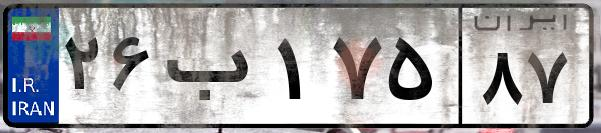1: (270, 28, 330, 110)
2: (57, 26, 110, 100)
5: (385, 28, 445, 110)
6: (110, 28, 158, 98)
7: (330, 28, 385, 110), (525, 38, 570, 115)
8: (475, 38, 525, 113)
ب: (158, 20, 270, 120)
